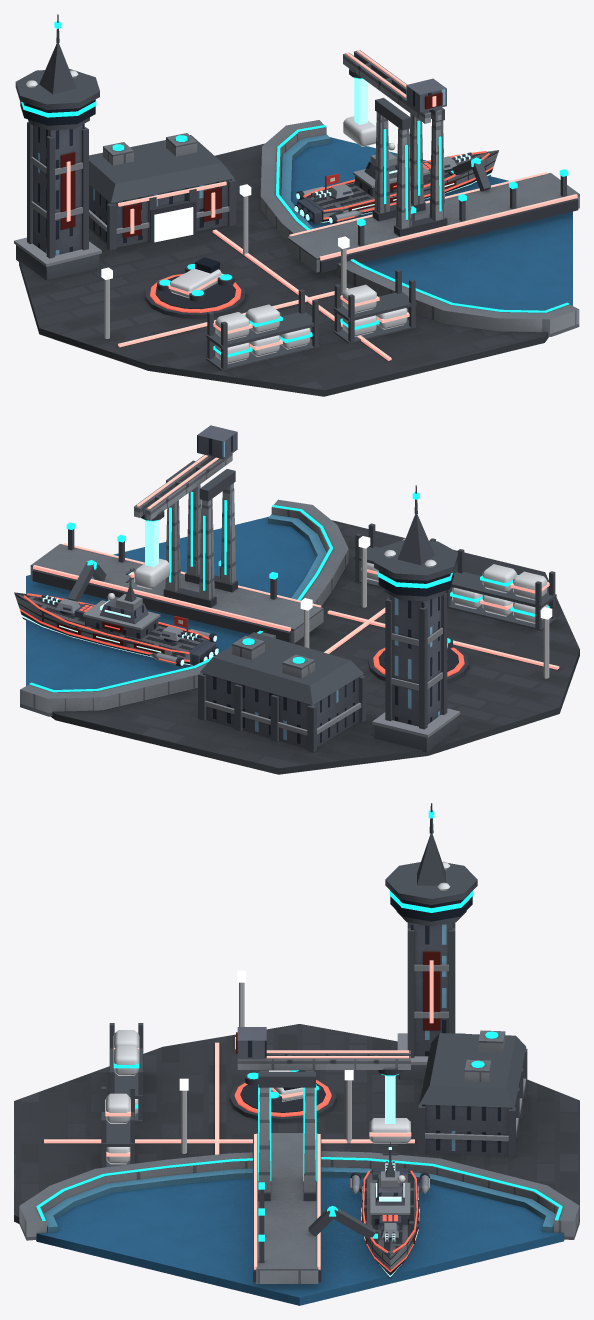
The model's file is port_scifi_red.glb.
The picture shows the model from 3 angles, top to bottom: view 1: azimuth 30°, elevation 25°; view 2: azimuth 150°, elevation 25°; view 3: azimuth 270°, elevation 25°; orthographic projection. The views are drawn at different scales.
Visible parts, largest first — view 1: port_scifi_red; view 2: port_scifi_red; view 3: port_scifi_red.
Boxes of the visible parts, x1,y1,x2,y2 form: port_scifi_red: [14, 14, 579, 396]; port_scifi_red: [14, 425, 579, 774]; port_scifi_red: [14, 803, 579, 1305].
Size of the model in its own units: 1.58 by 0.72 by 1.37.
Materials: 9 (1 with a texture image).
